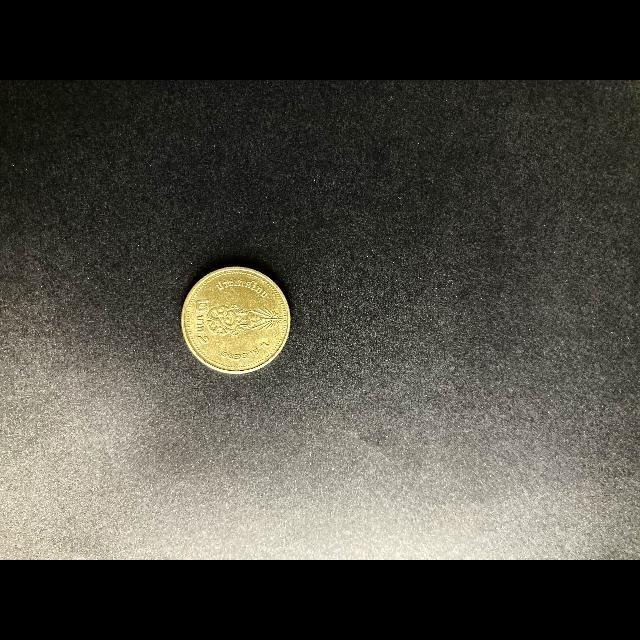2 Bath: (179, 265, 293, 377)
